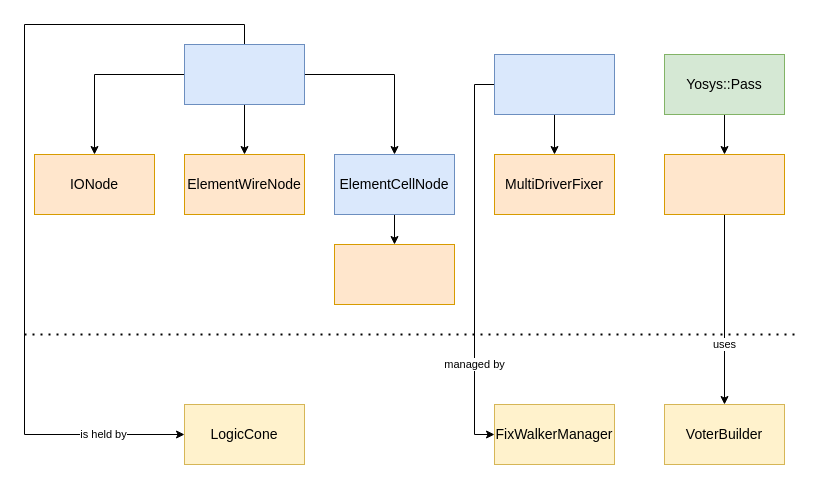
Image size: 814x482. Some labels were removed from this diagram. The box of each missing label's shape, as (x1, y1, x2, y2) in pixels:
FFNode: (334, 244, 454, 304)
FixWalker: (494, 54, 614, 114)
TamaraTMRPass: (664, 154, 784, 214)
TMRGraphNode: (184, 44, 304, 104)
